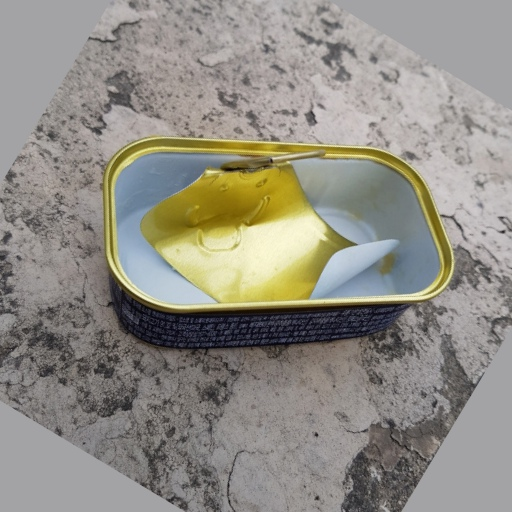Metal_2: (103, 130, 455, 350)
